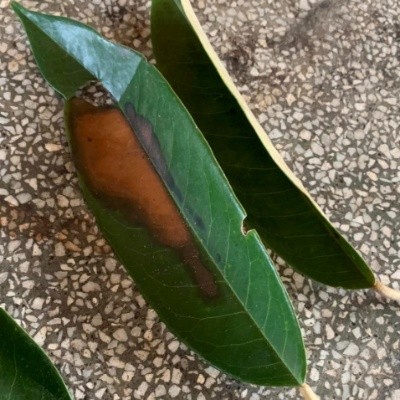Leaf_Rhizoctonia: (8, 0, 398, 390)
